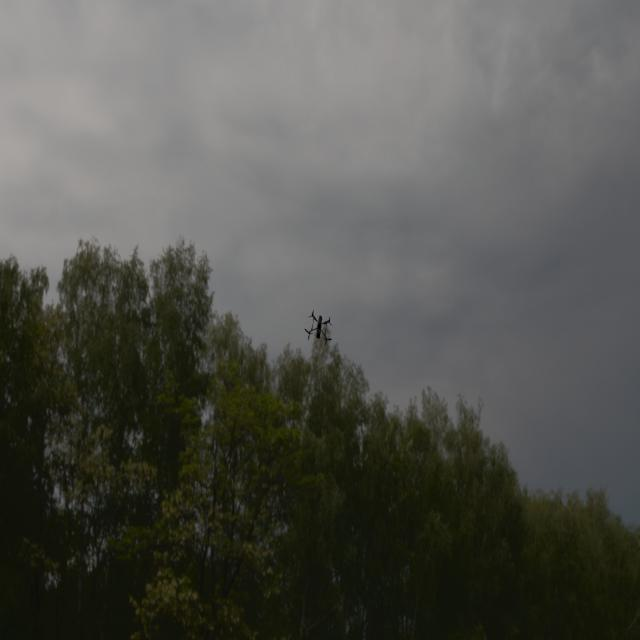drone: (302, 299, 336, 361)
